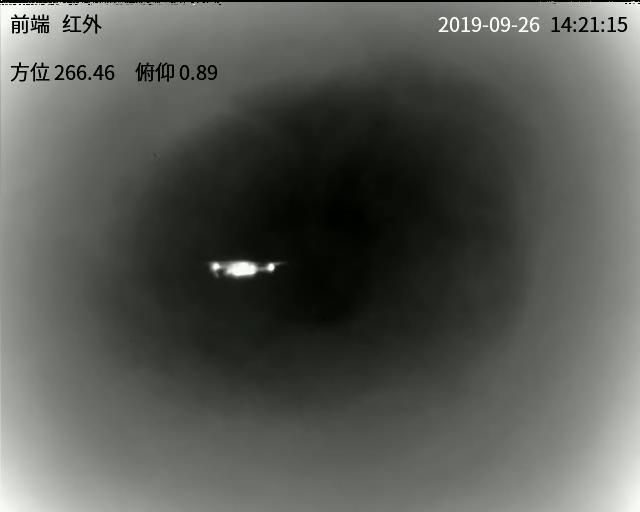uav: (207, 256, 287, 281)
